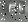person: (21, 2, 28, 15), (11, 4, 17, 14)
